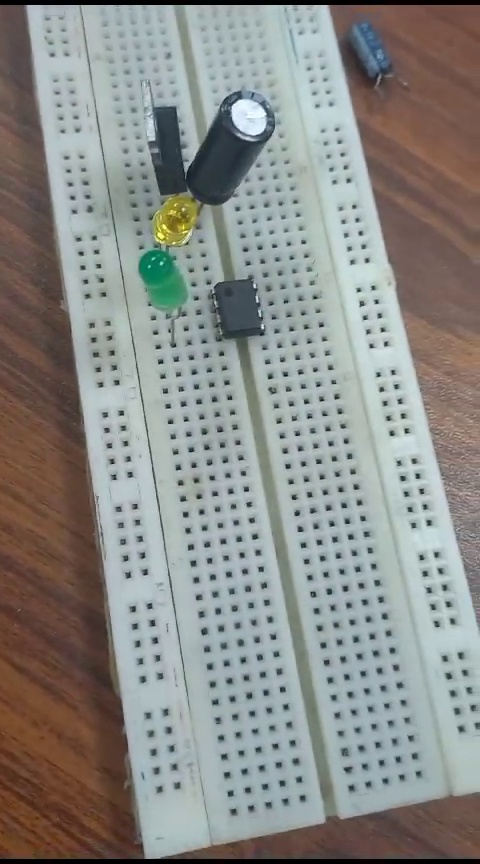IC: (203, 276, 267, 340)
LED: (128, 245, 190, 336), (155, 195, 204, 247)
capacitor: (207, 88, 267, 211), (336, 15, 418, 100)
voltage regulator: (127, 57, 194, 200)
